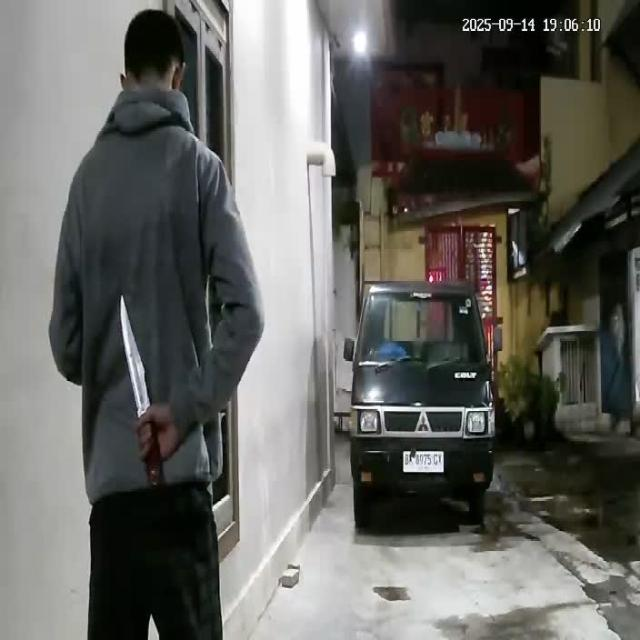senjata_tajam: (118, 294, 154, 418)
